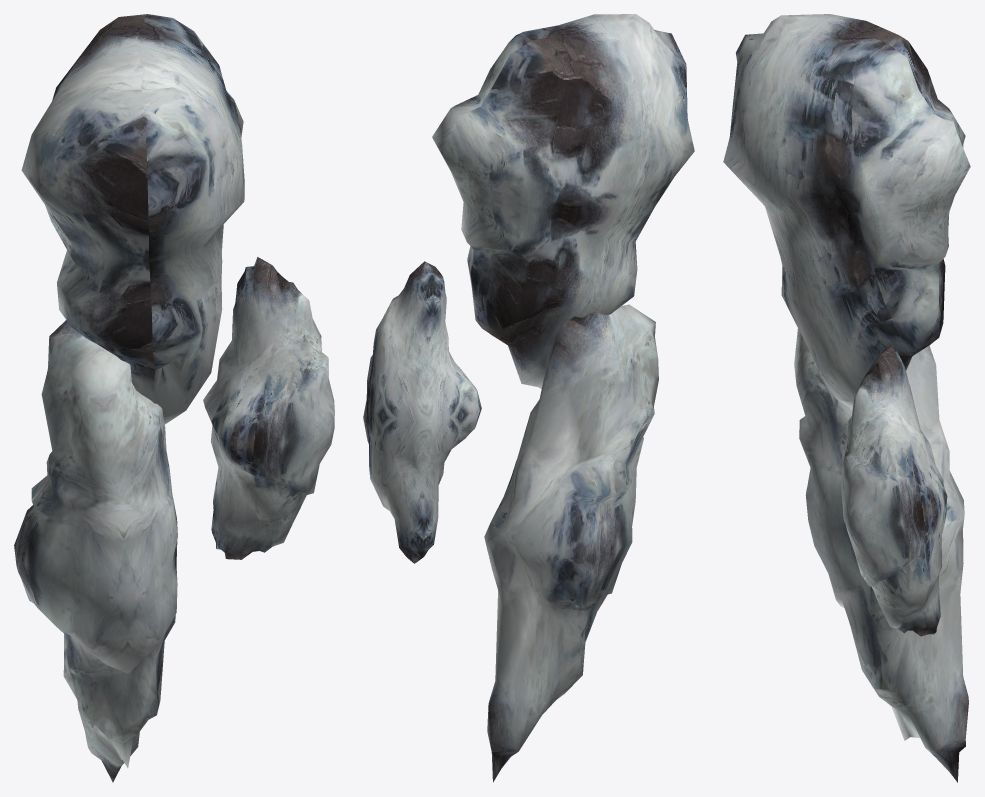
Rendered from S_Rock_White030_A.FBX.
3 views of the same model, side by side, from view 1: azimuth 30°, elevation 25°; view 2: azimuth 150°, elevation 25°; view 3: azimuth 270°, elevation 25° (orthographic). The views are drawn at different scales.
Parts seen in each view (by area): view 1: S_Rock_White030_A; view 2: S_Rock_White030_A; view 3: S_Rock_White030_A.
Part boxes in pixels (x1,y1,x2,y2): S_Rock_White030_A: (14, 14, 334, 782); S_Rock_White030_A: (363, 14, 694, 782); S_Rock_White030_A: (723, 14, 970, 782).
Bounding box in the file's own units: 780 × 1865 × 563.
